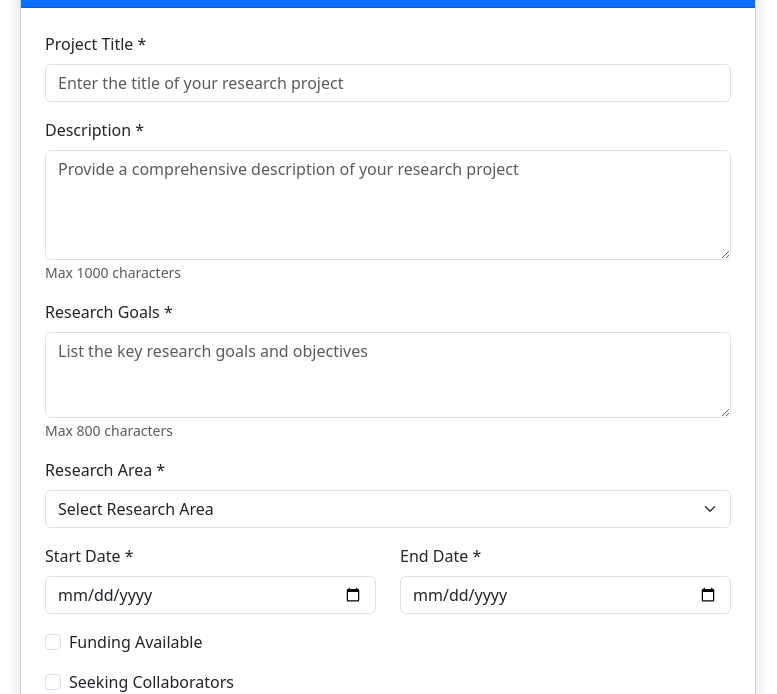
Test: CreateProject › shows additional fields when funding/collaborators checked
Click the checkbox labelled "Funding Available".
click(53, 642)  # box [45,634,61,650]
(page scrolled)
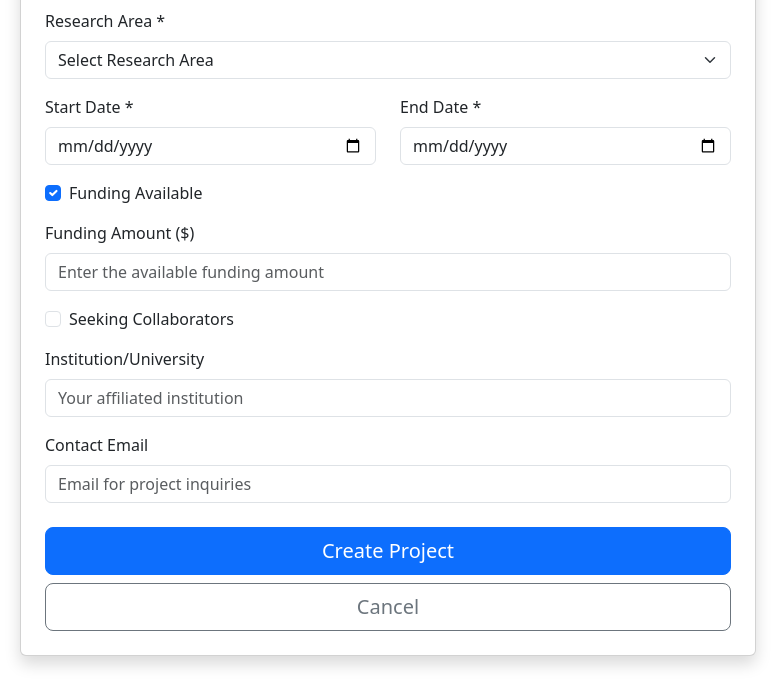
Now the number field labelled "Funding Amount ($)" is shown, box [45,253,731,291]
Click the checkbox labelled "Seeking Collaborators".
click(53, 319)  # box [45,311,61,327]
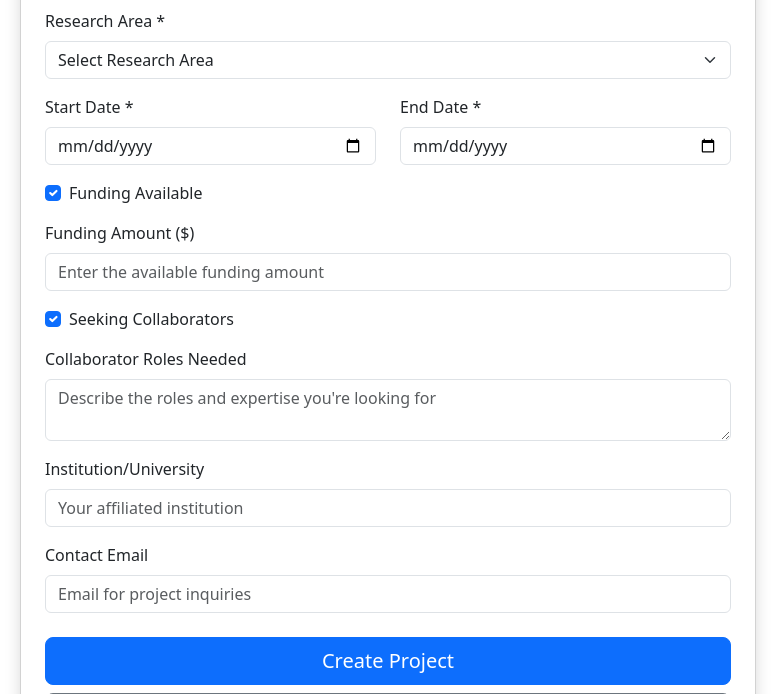
Now the text box labelled "Collaborator Roles Needed" is shown, box [45,379,731,441]
